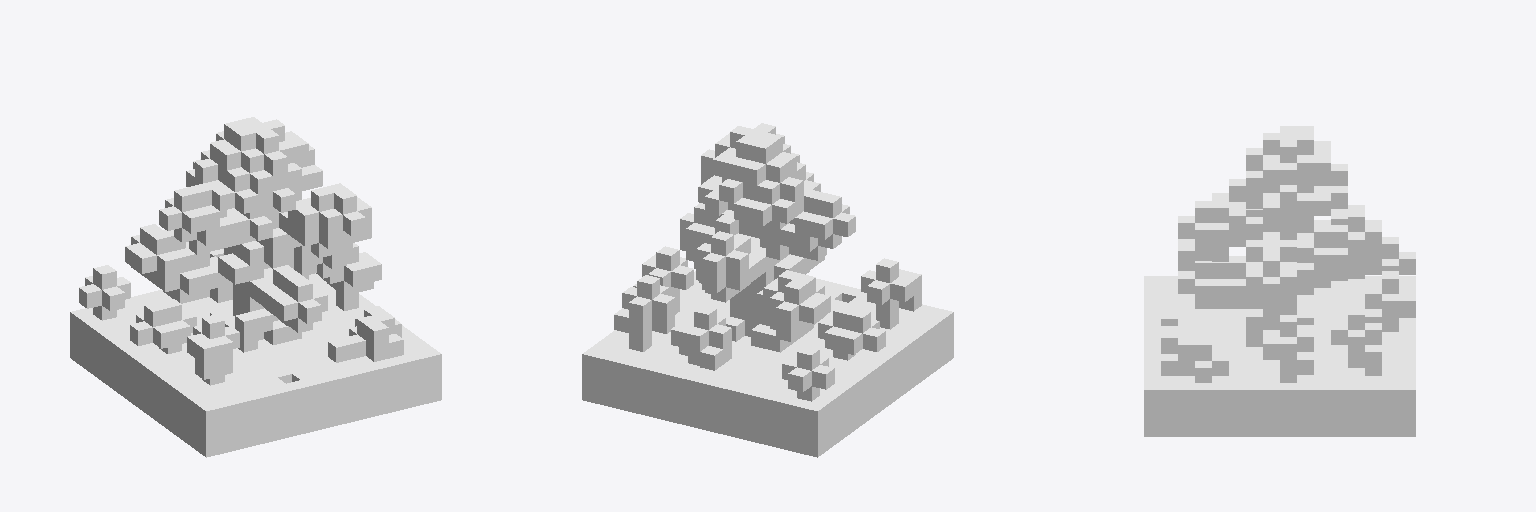
The model's file is worldtree.obj.
3 views of the same model, side by side, from view 1: azimuth 30°, elevation 25°; view 2: azimuth 150°, elevation 25°; view 3: azimuth 270°, elevation 25° (orthographic).
Visible parts, largest first — view 1: BigTree; view 2: BigTree; view 3: BigTree.
Boxes of the visible parts, x1=… form: BigTree: x1=70, y1=117, x2=441, y2=457; BigTree: x1=582, y1=123, x2=953, y2=457; BigTree: x1=1144, y1=126, x2=1415, y2=436.
Size of the model in its own units: 16 by 16 by 16.